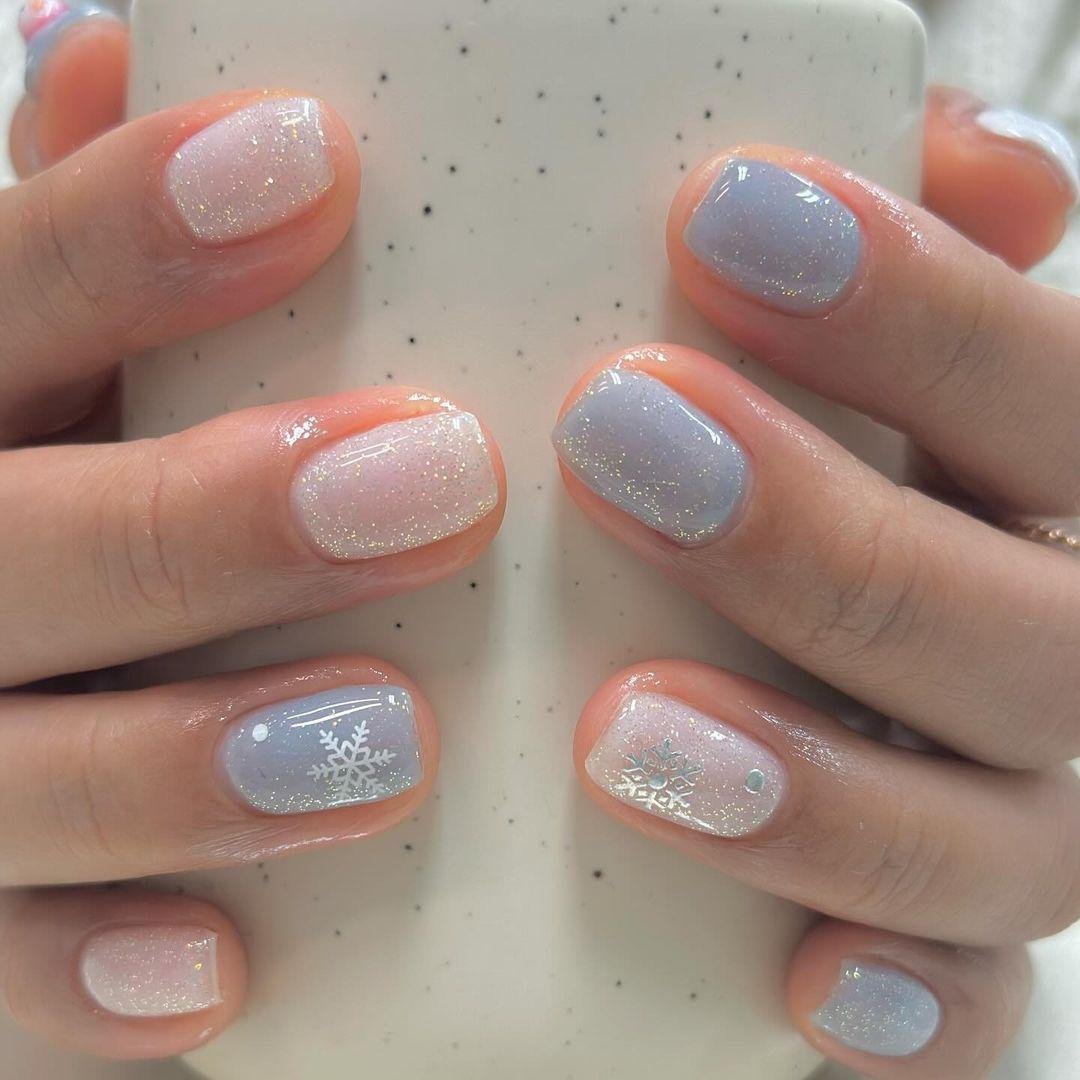nail: (551, 364, 754, 550), (285, 403, 501, 566), (583, 686, 792, 841), (677, 151, 864, 318), (920, 81, 1077, 273), (213, 680, 423, 818), (161, 93, 333, 249), (7, 0, 130, 179), (79, 929, 222, 1017), (809, 961, 941, 1055)
